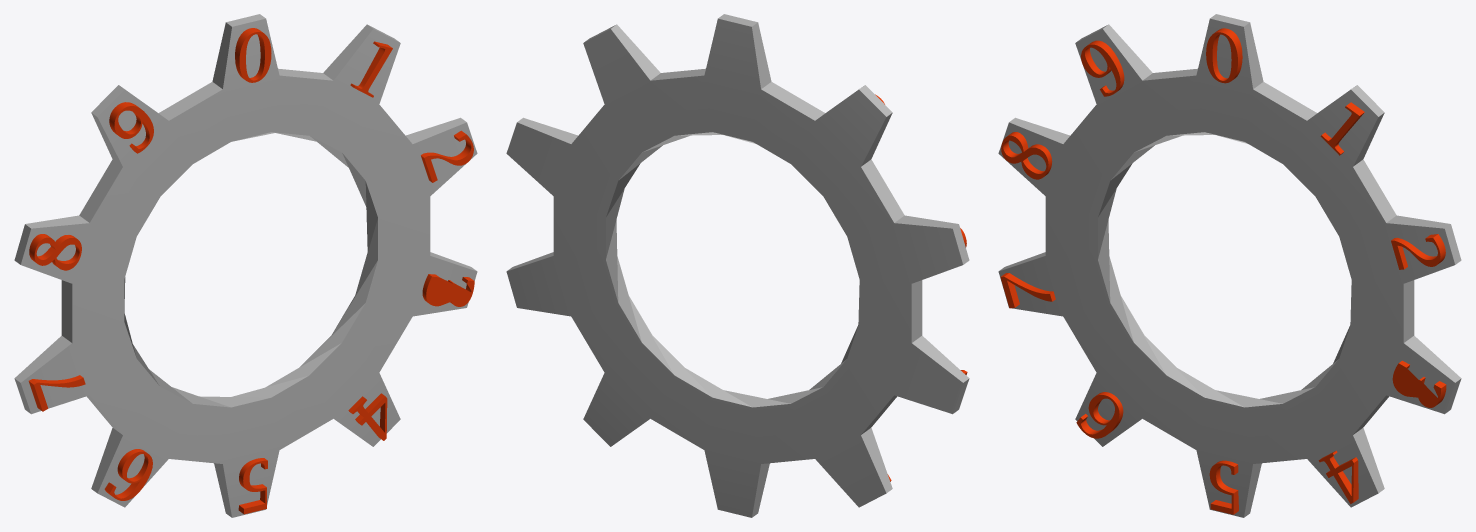
Rendered from numberedCog.fbx.
3 views of the same model, side by side, from view 1: azimuth 30°, elevation 25°; view 2: azimuth 150°, elevation 25°; view 3: azimuth 330°, elevation 25° (orthographic).
Visible parts, largest first — view 1: typeMesh11; view 2: typeMesh11; view 3: typeMesh11.
Part boxes in pixels (bbox=[...]): typeMesh11: bbox=[14, 14, 477, 517]; typeMesh11: bbox=[506, 14, 969, 517]; typeMesh11: bbox=[998, 14, 1461, 517].
Size of the model in its own units: 75.6 by 77.66 by 4.
